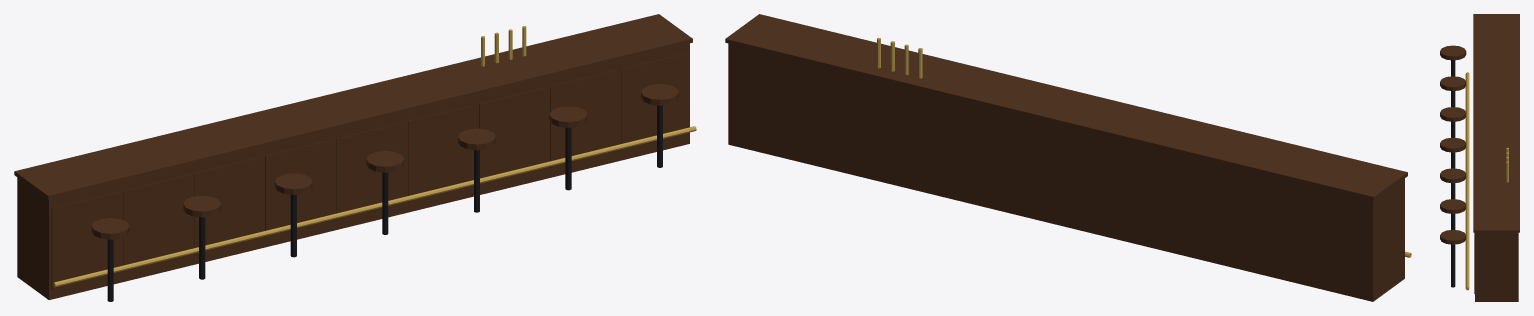
The model's file is bar counter.glb.
The picture shows the model from 3 angles, left to right: view 1: azimuth 30°, elevation 25°; view 2: azimuth 150°, elevation 25°; view 3: azimuth 270°, elevation 25°; orthographic projection. The views are drawn at different scales.
Visible parts, largest first — view 1: bar counter; view 2: bar counter; view 3: bar counter.
Part boxes in pixels (box(x1,y1,x2,y2)): bar counter: box(14, 14, 696, 301); bar counter: box(725, 14, 1411, 301); bar counter: box(1440, 14, 1519, 301).
Size of the model in its own units: 7.04 by 1.4 by 1.1.
